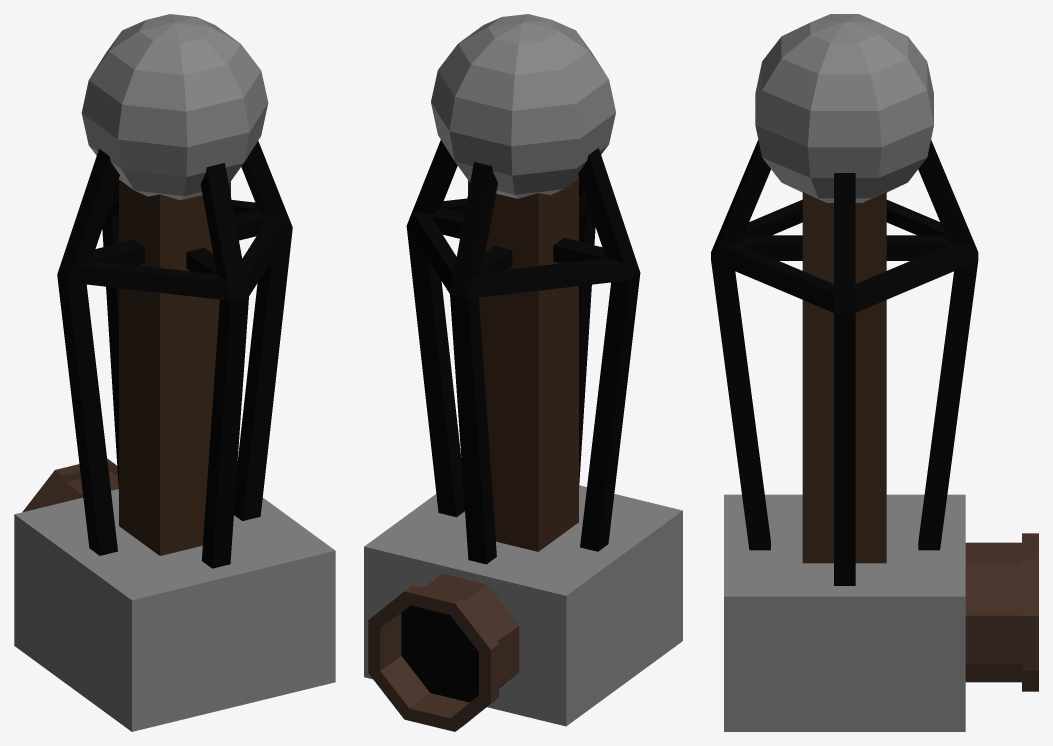
The model's file is Distributor.fbx.
3 renders of one model, left to right at view 1: azimuth 30°, elevation 25°; view 2: azimuth 150°, elevation 25°; view 3: azimuth 270°, elevation 25°, orthographic. The views are drawn at different scales.
Parts seen in each view (by area): view 1: Cube.092, Cylinder.027; view 2: Cube.092, Cylinder.027; view 3: Cube.092, Cylinder.027.
Part boxes in pixels (x1,y1,x2,y2): Cube.092: (14, 14, 335, 731); Cylinder.027: (22, 458, 118, 512); Cube.092: (364, 14, 682, 726); Cylinder.027: (368, 574, 519, 731); Cube.092: (711, 14, 978, 731); Cylinder.027: (965, 533, 1038, 691).
Size of the model in its own units: 66.93 by 182 by 82.11.
